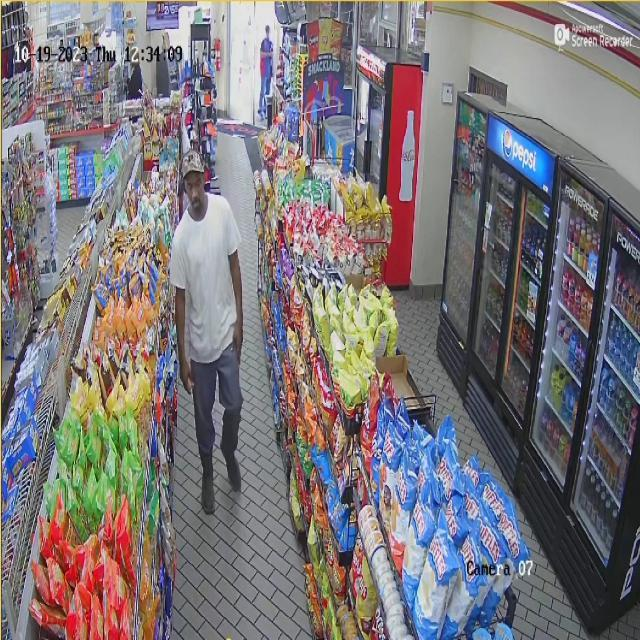Normal: (171, 135, 248, 524), (254, 11, 275, 139)
